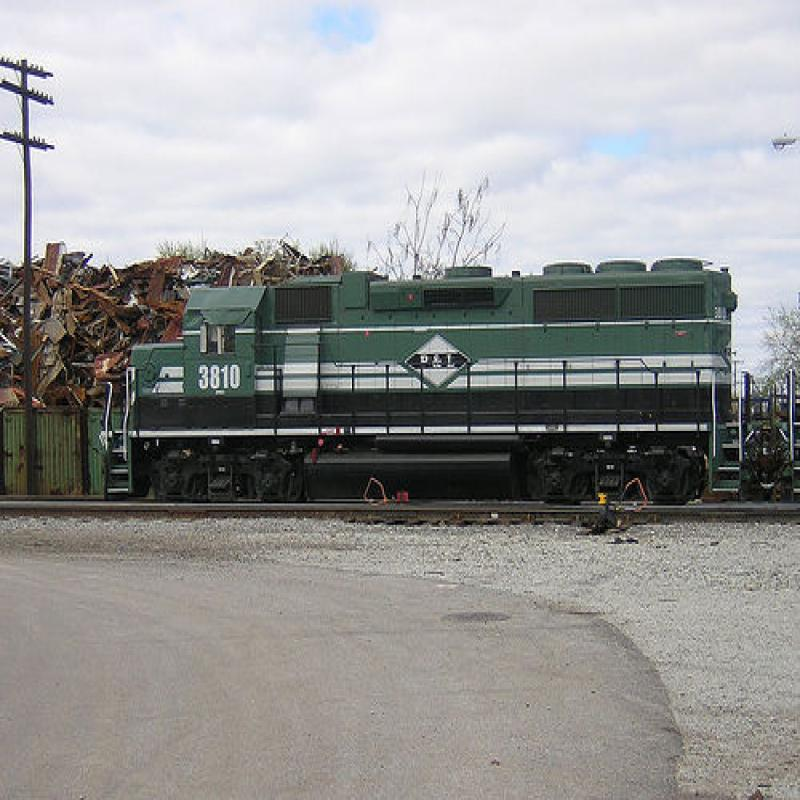train: (96, 253, 744, 513)
